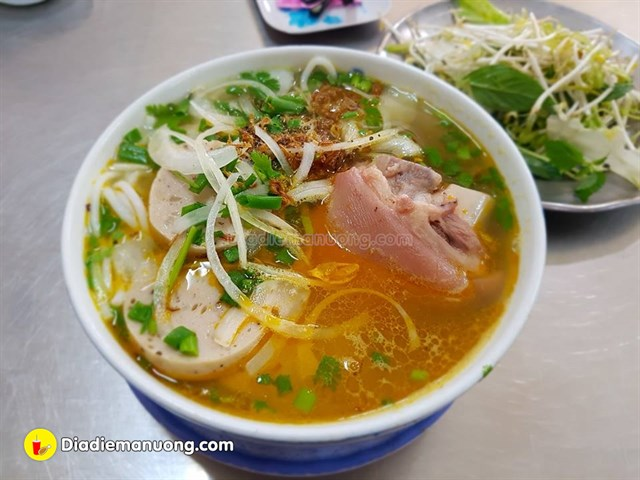chamoc: (127, 254, 300, 371)
onion: (153, 121, 264, 206), (244, 81, 348, 161)
pork: (335, 150, 495, 303)
